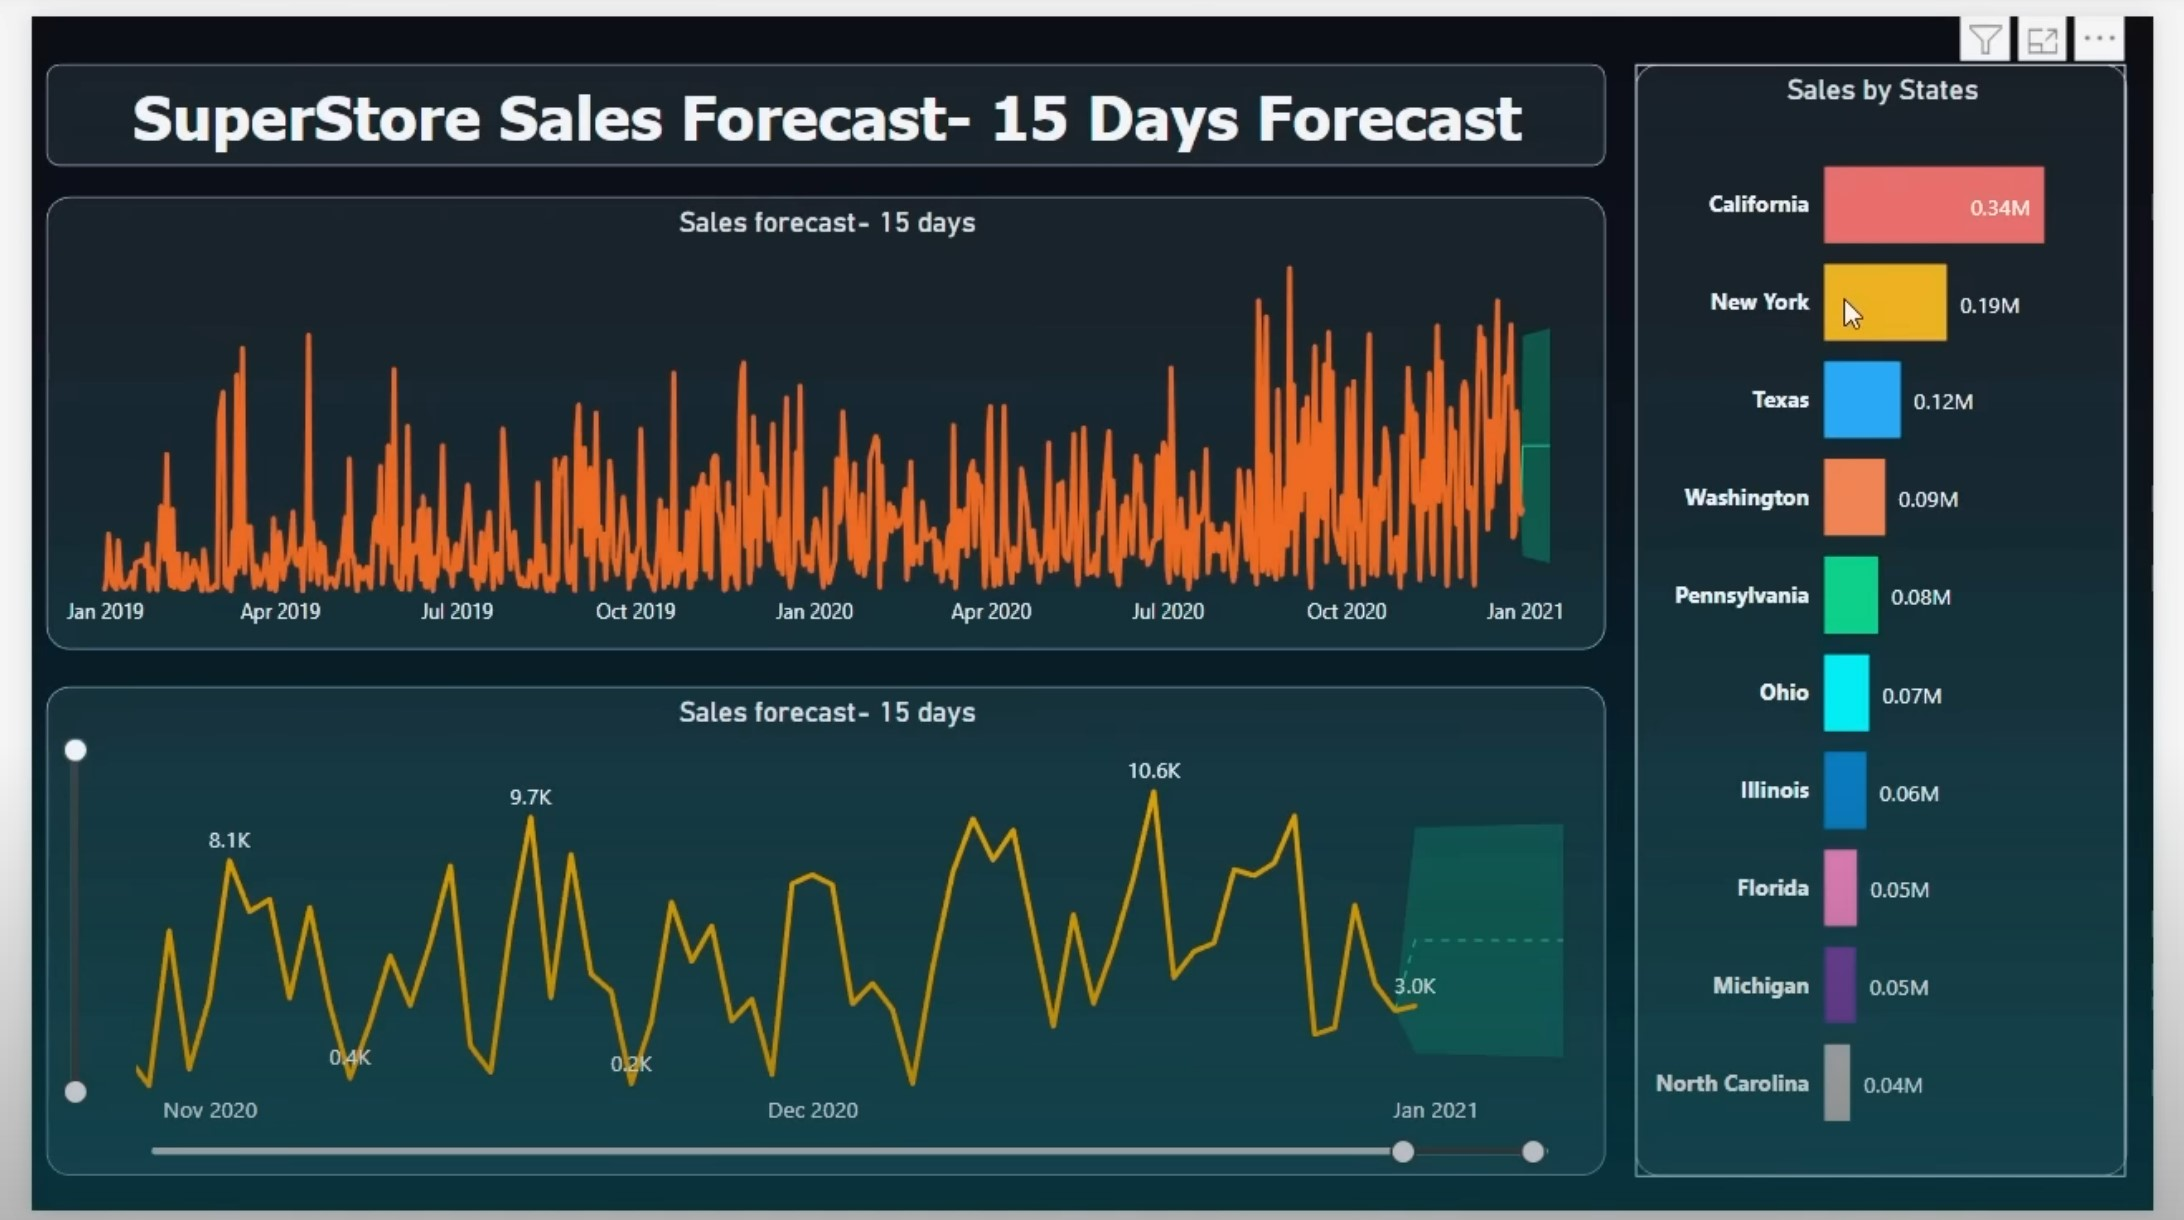

The page's visual inventory and layout, read from the dashboard file:
{"tool":"powerbi","page":{"name":"Forecast","canvas":[1280,720],"ordinal":1},"visuals":[{"type":"lineChart","title":"Sales Forecast - 15 Days","fields":{"Y":["Sum(SuperStore_Sales_Dataset.Sales)"],"Category":["SuperStore_Sales_Dataset.Order Date"]},"box":[14.3,90,888.6,288.6],"z":0},{"type":"clusteredBarChart","title":"Sales by States","fields":{"Y":["Sum(SuperStore_Sales_Dataset.Sales)"],"Category":["SuperStore_Sales_Dataset.State"]},"box":[924.3,17.1,341.4,685.7],"z":1000},{"type":"lineChart","title":"Sales Forecast - 15 Days","fields":{"Y":["Sum(SuperStore_Sales_Dataset.Sales)"],"Category":["SuperStore_Sales_Dataset.Order Date"]},"box":[14.3,398.6,888.6,305.7],"z":2000},{"type":"textbox","box":[14.3,17.1,888.6,58.6],"z":2001}]}

Visuals, with their boxes in screenshot pixels (x1, y1, x2, y2):
"Sales Forecast - 15 Days" lineChart: bbox(24, 128, 1512, 611)
"Sales by States" clusteredBarChart: bbox(1548, 6, 2120, 1154)
"Sales Forecast - 15 Days" lineChart: bbox(24, 645, 1512, 1157)
textbox: bbox(24, 6, 1512, 104)
